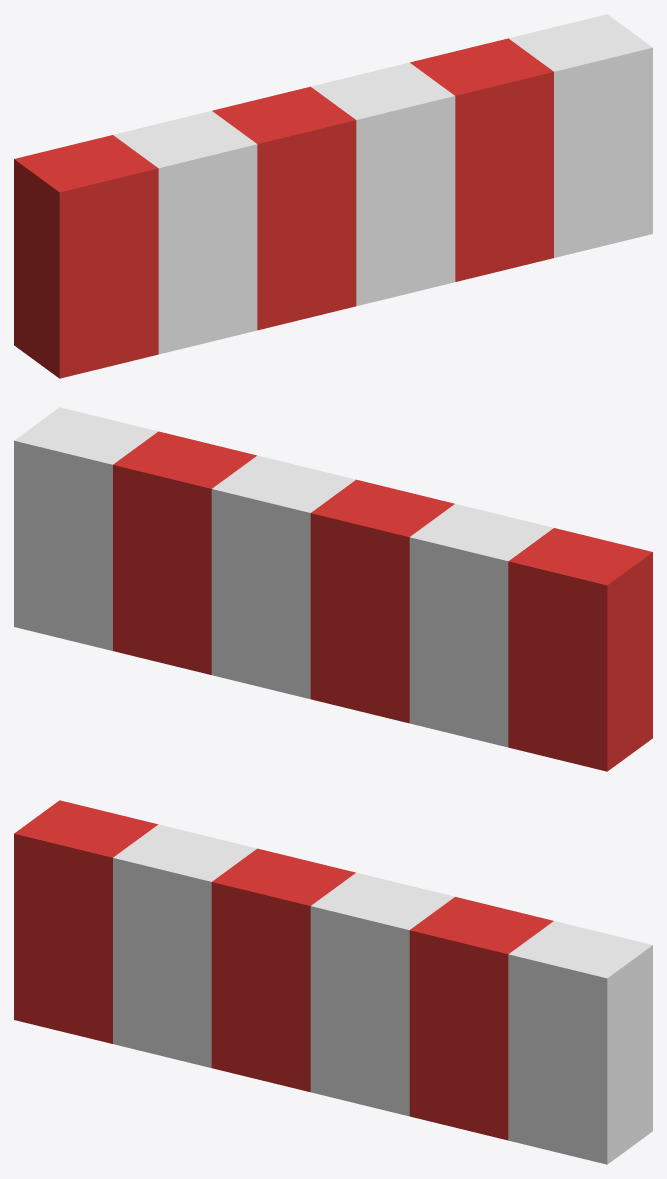
File: obstacle_barrier.glb
3 views of the same model, one above another, from view 1: azimuth 30°, elevation 25°; view 2: azimuth 150°, elevation 25°; view 3: azimuth 330°, elevation 25° (orthographic).
Visible parts, largest first — view 1: obstacle_barrier; view 2: obstacle_barrier; view 3: obstacle_barrier.
Boxes of the visible parts, x1,y1,x2,y2 form: obstacle_barrier: (14, 14, 652, 378); obstacle_barrier: (14, 407, 652, 771); obstacle_barrier: (14, 800, 652, 1164).
Bounding box in the file's own units: 3 × 0.9 × 0.4.
